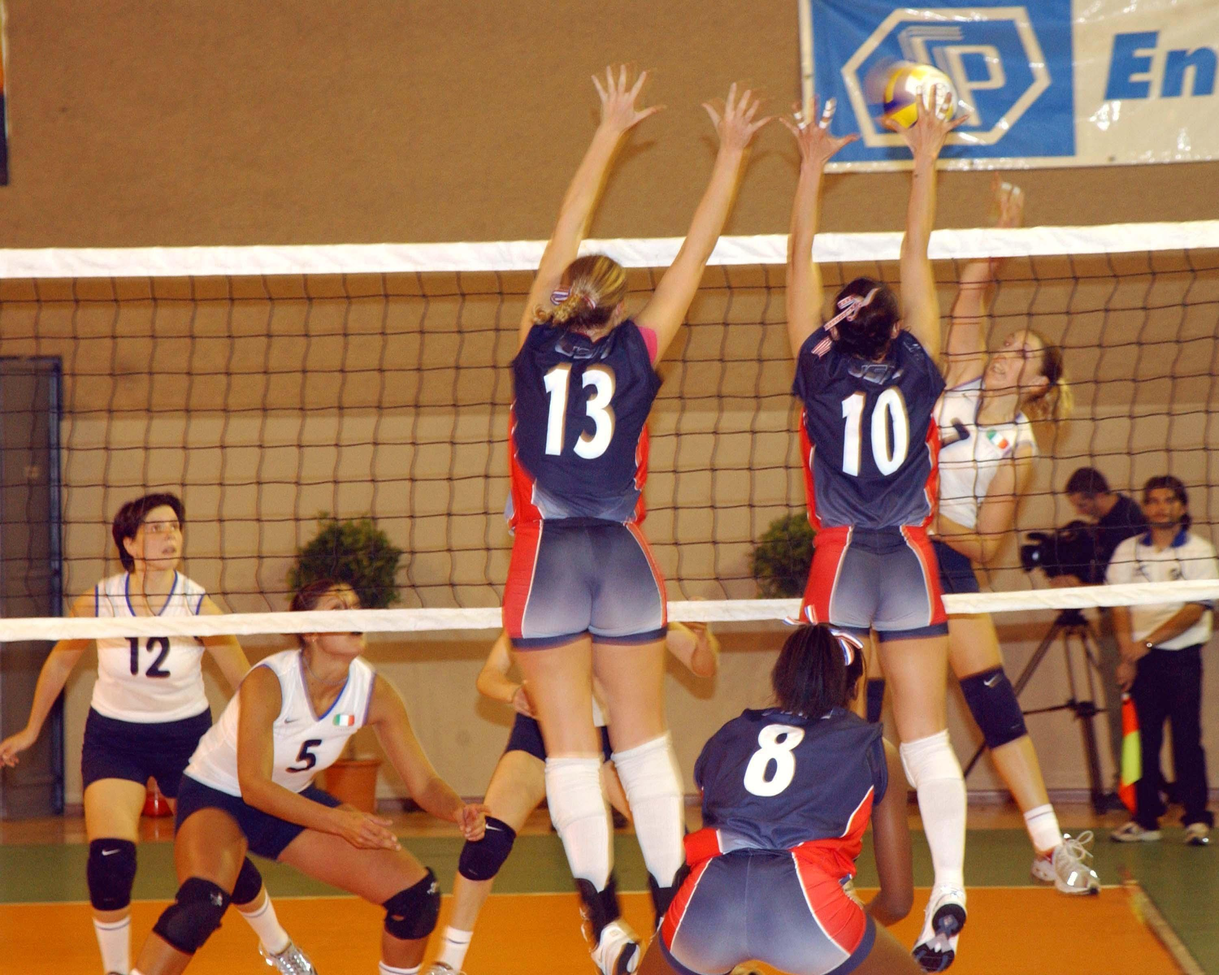ballon_volley: (878, 58, 960, 138)
